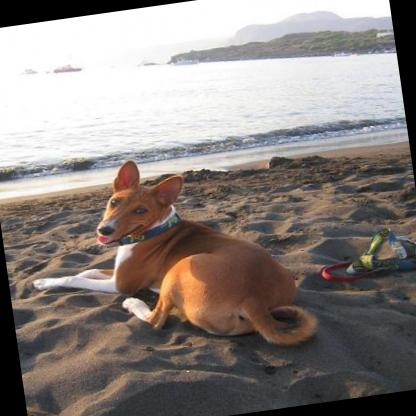basenji: (14, 134, 318, 380)
